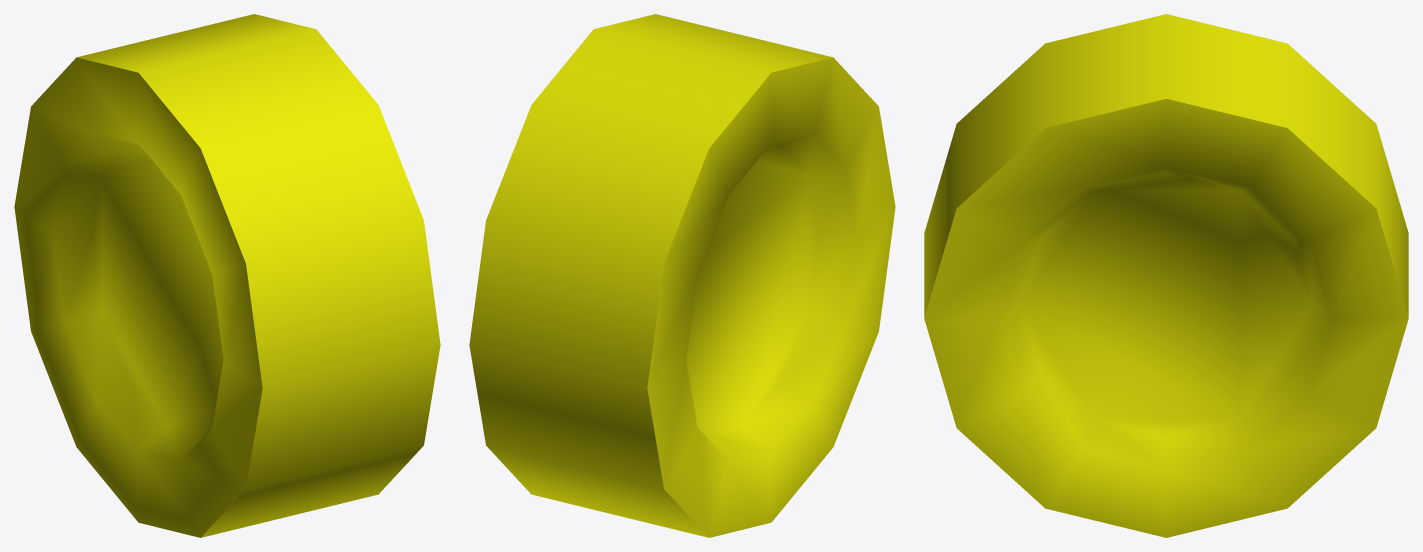
File: coin.gltf
The picture shows the model from 3 angles, left to right: view 1: azimuth 30°, elevation 25°; view 2: azimuth 150°, elevation 25°; view 3: azimuth 270°, elevation 25°; orthographic projection. The views are drawn at different scales.
Parts seen in each view (by area): view 1: coin; view 2: coin; view 3: coin.
Boxes of the visible parts, x1,y1,x2,y2 form: coin: (14, 14, 440, 537); coin: (469, 14, 895, 537); coin: (924, 14, 1408, 537).
Bounding box in the file's own units: 0.0645 × 0.1559 × 0.1559.
